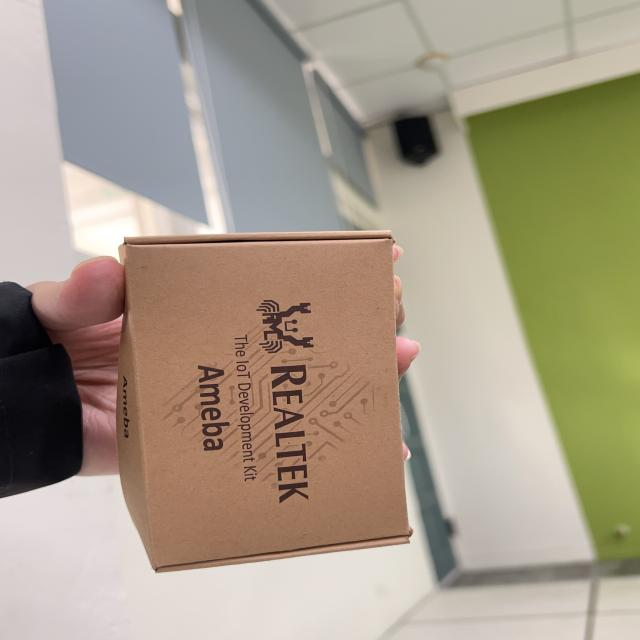box: (93, 218, 446, 582)
